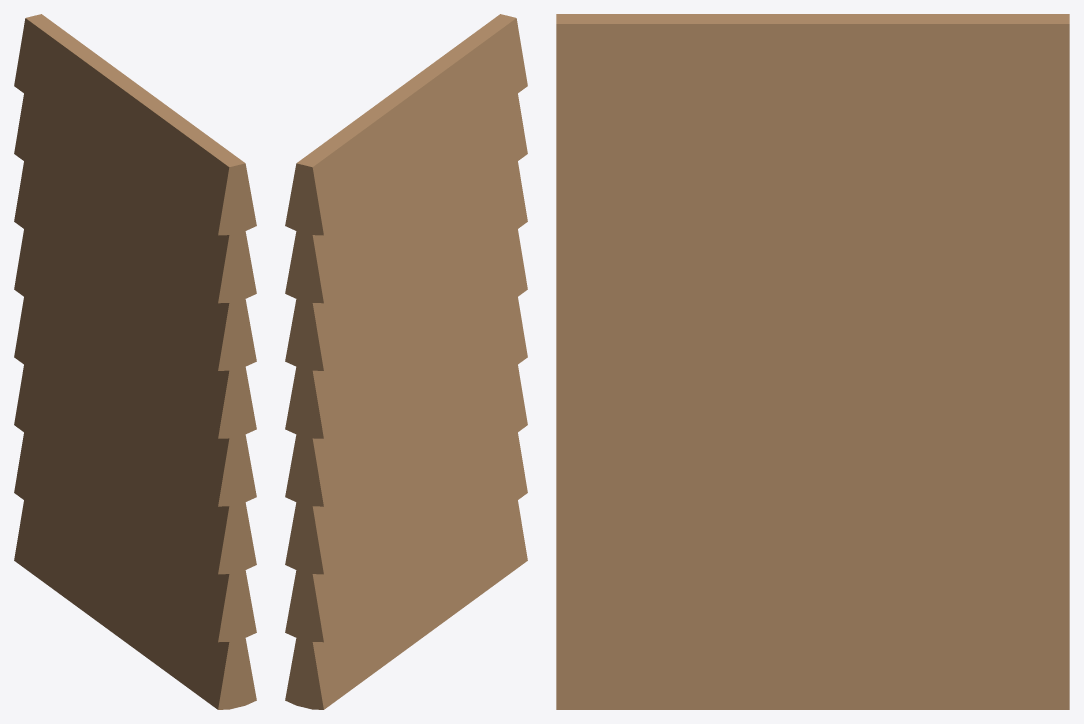
Rendered from Small Wall A-col.glb.
3 renders of one model, left to right at view 1: azimuth 30°, elevation 25°; view 2: azimuth 150°, elevation 25°; view 3: azimuth 270°, elevation 25°, orthographic. The views are drawn at different scales.
Visible parts, largest first — view 1: Small Wall A-col.001; view 2: Small Wall A-col.001; view 3: Small Wall A-col.001.
Part boxes in pixels (x1,y1,x2,y2): Small Wall A-col.001: (14, 14, 256, 709); Small Wall A-col.001: (285, 14, 527, 709); Small Wall A-col.001: (556, 14, 1069, 709).
Size of the model in its own units: 0.165 by 2.2 by 1.5.
